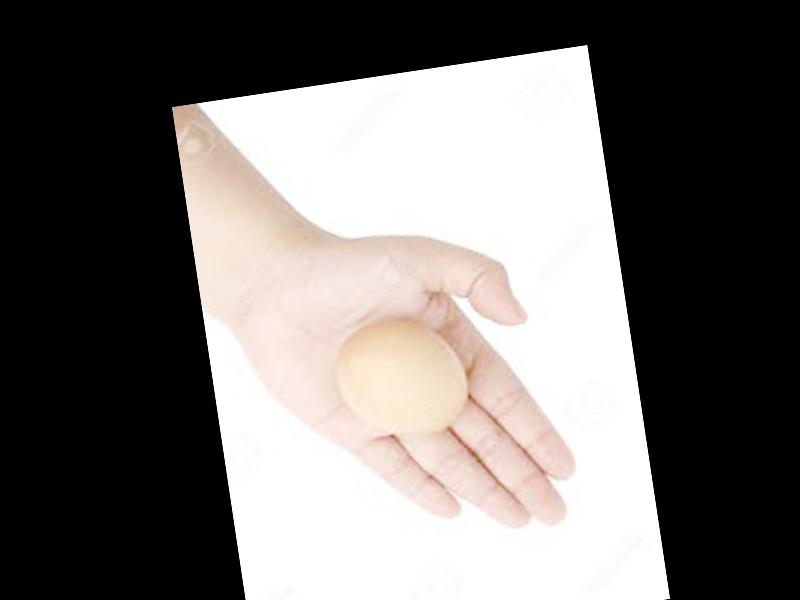Eggs: (329, 309, 471, 442)
